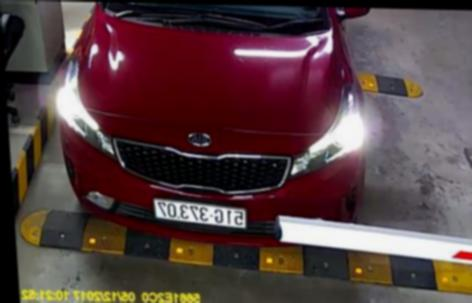License_Plate: (151, 194, 254, 231)
